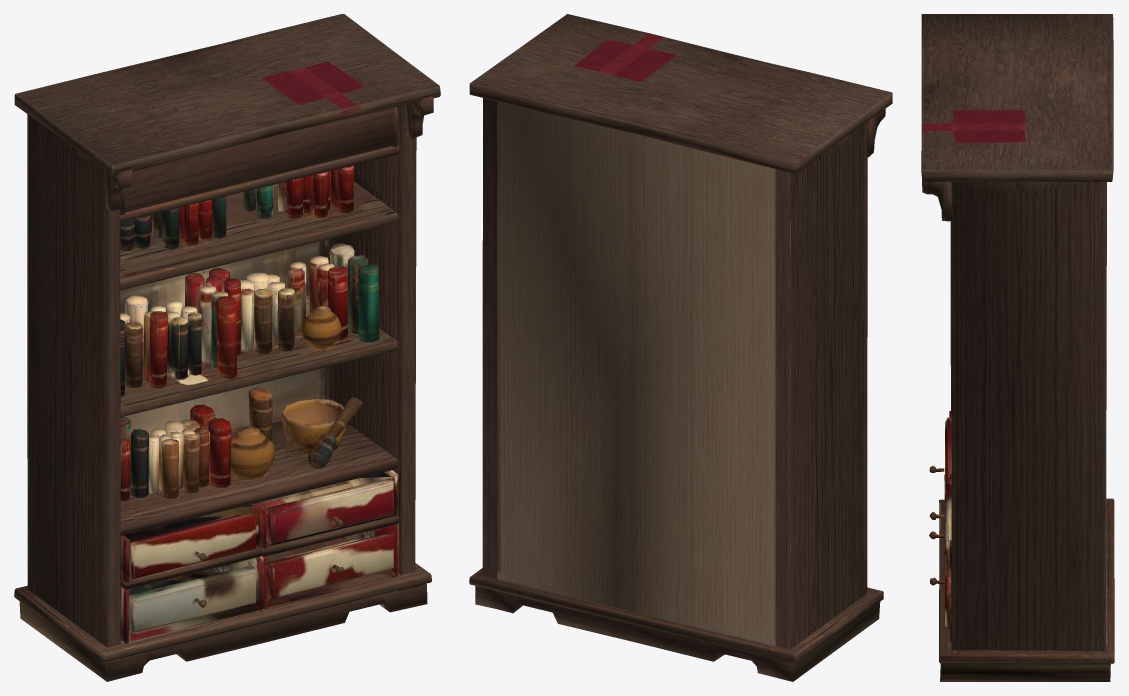
The model's file is bookcase.glb.
3 renders of one model, left to right at view 1: azimuth 30°, elevation 25°; view 2: azimuth 150°, elevation 25°; view 3: azimuth 270°, elevation 25°, orthographic. The views are drawn at different scales.
Bounding box in the file's own units: 1.32 × 2 × 0.6836.
Materials: 1 (1 with a texture image).
